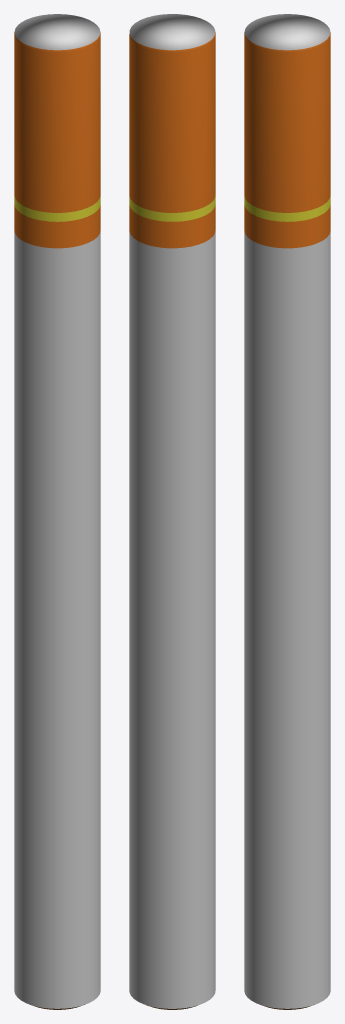
File: cigarroPROP.fbx
3 renders of one model, left to right at view 1: azimuth 90°, elevation 25°; view 2: azimuth 150°, elevation 25°; view 3: azimuth 270°, elevation 25°, orthographic.
Parts seen in each view (by area): view 1: Cylinder; view 2: Cylinder; view 3: Cylinder.
Boxes of the visible parts, bbox=[...] form: Cylinder: bbox=[14, 14, 100, 1008]; Cylinder: bbox=[129, 14, 215, 1008]; Cylinder: bbox=[244, 14, 330, 1008].
Bounding box in the file's own units: 18.6 × 230 × 18.6.
